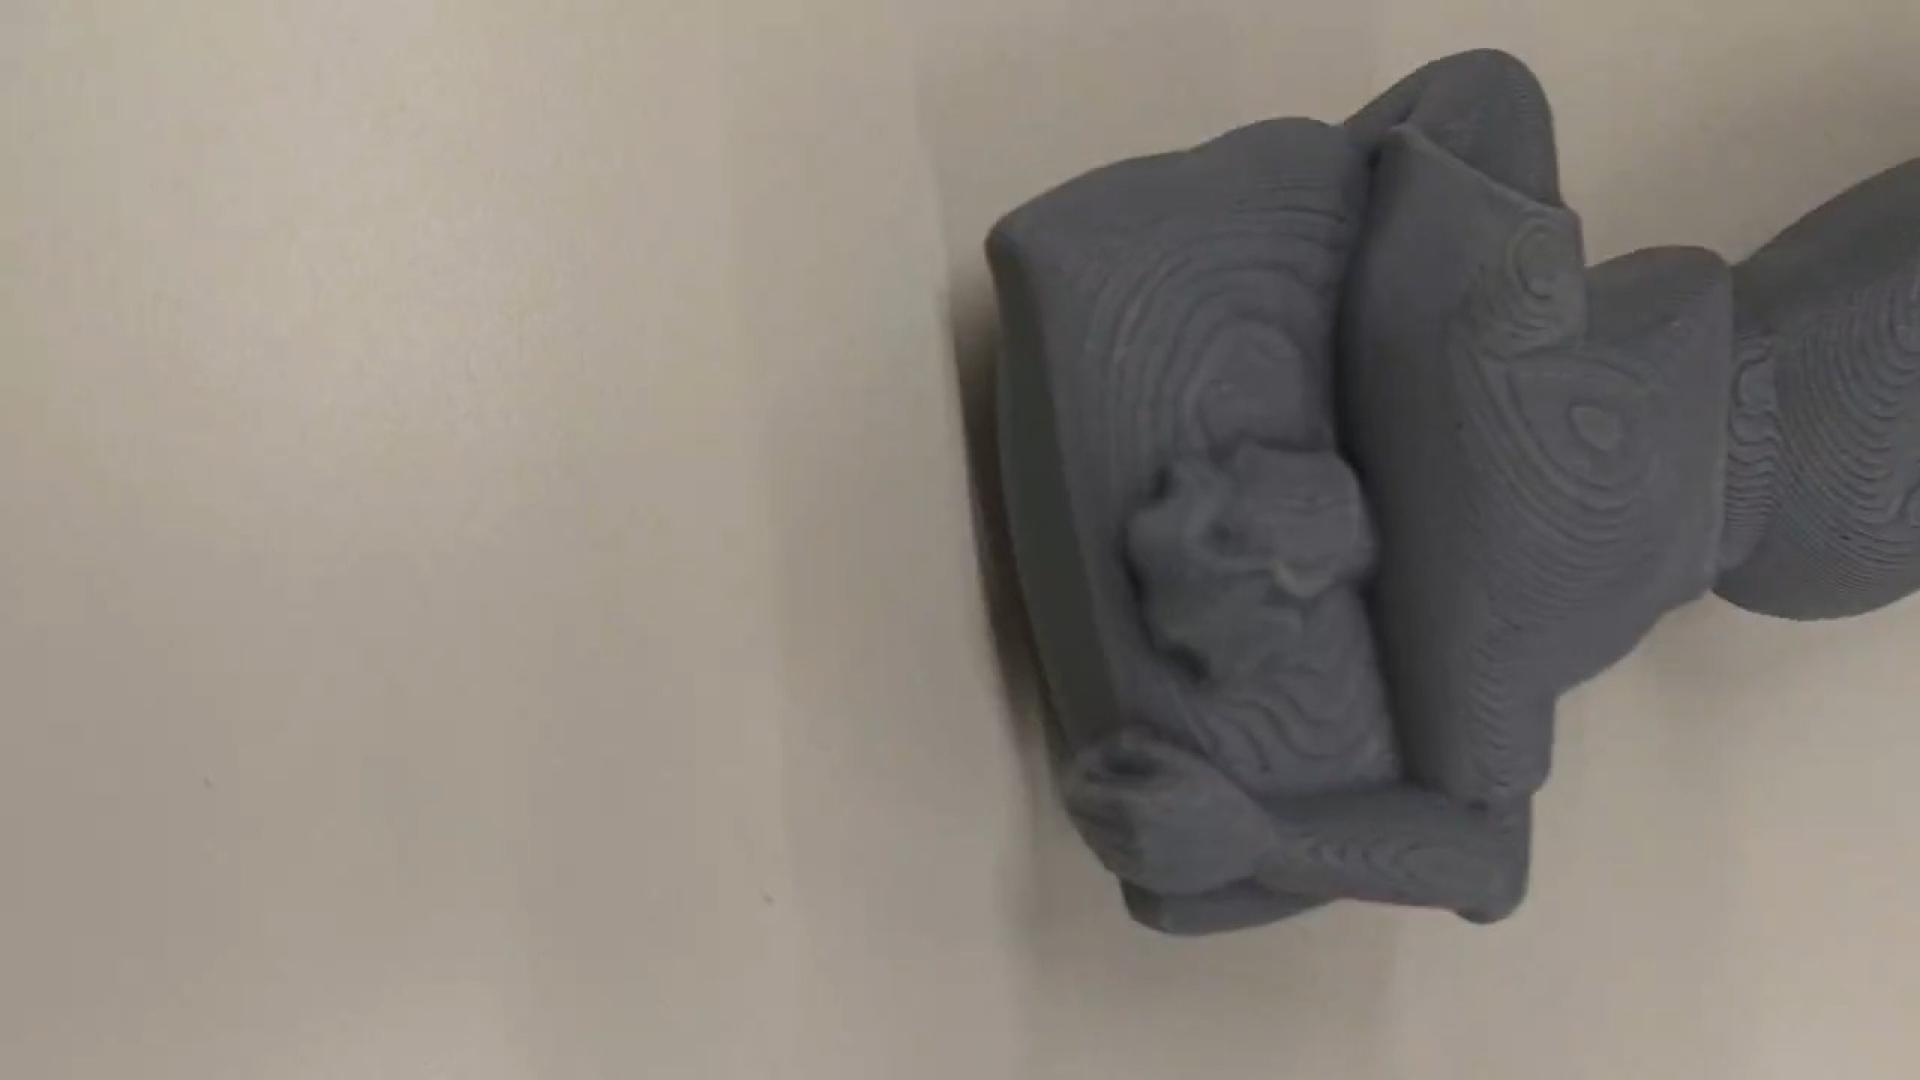Bad-style: (996, 49, 1920, 944)
